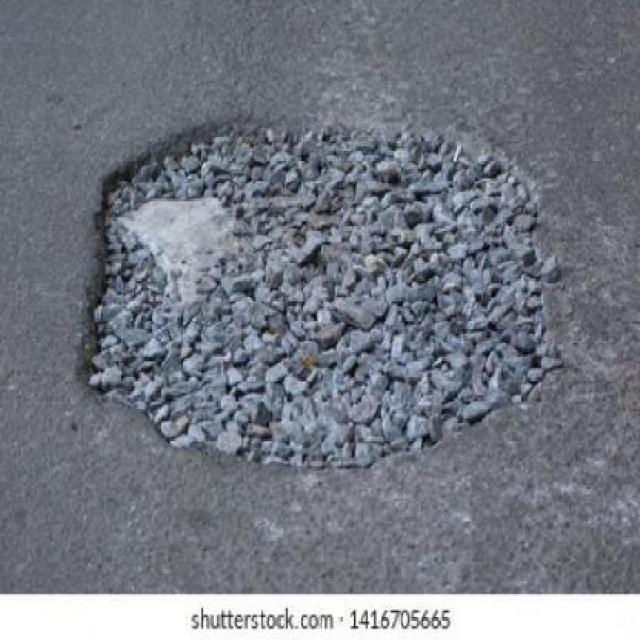Pothole: (72, 112, 556, 480)
